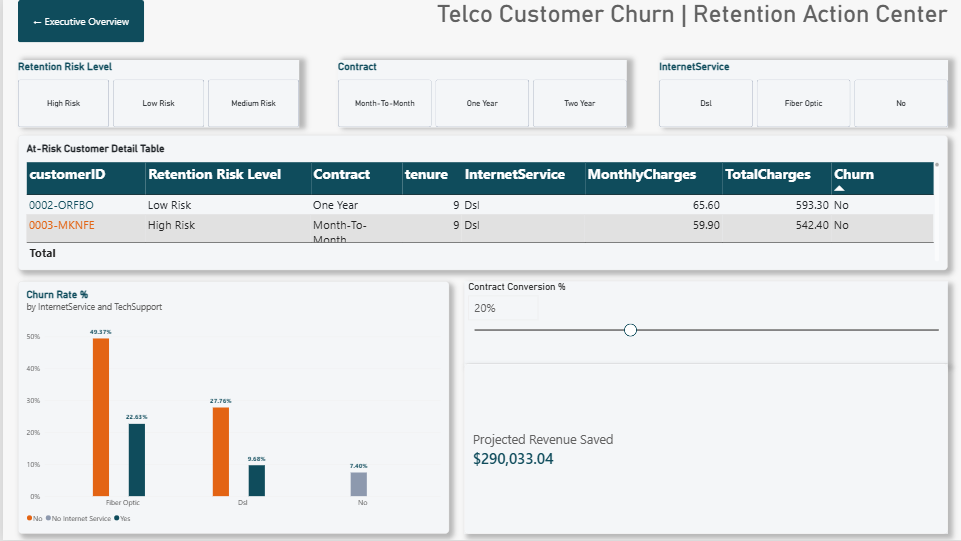

The page's visual inventory and layout, read from the dashboard file:
{"tool":"powerbi","page":{"name":"Retention Action Center","canvas":[1920,1080],"ordinal":1},"visuals":[{"type":"advancedSlicerVisual","fields":{"Values":["WA_Fn-UseC_-Telco-Customer-Churn.Retention Risk Level"]},"box":[30,120,562.5,135],"z":0},{"type":"advancedSlicerVisual","fields":{"Values":["WA_Fn-UseC_-Telco-Customer-Churn.Contract"]},"box":[670,120,577.5,135],"z":1000},{"type":"advancedSlicerVisual","fields":{"Values":["WA_Fn-UseC_-Telco-Customer-Churn.InternetService"]},"box":[1312.5,120,577.5,135],"z":2000},{"type":"tableEx","title":"At-Risk Customer Detail Table","fields":{"Values":["WA_Fn-UseC_-Telco-Customer-Churn.customerID","WA_Fn-UseC_-Telco-Customer-Churn.Retention Risk Level","WA_Fn-UseC_-Telco-Customer-Churn.Contract","WA_Fn-UseC_-Telco-Customer-Churn.tenure","WA_Fn-UseC_-Telco-Customer-Churn.InternetService","WA_Fn-UseC_-Telco-Customer-Churn.MonthlyCharges","WA_Fn-UseC_-Telco-Customer-Churn.TotalCharges","WA_Fn-UseC_-Telco-Customer-Churn.Churn"]},"box":[29.8,270.2,1859.6,270.2],"z":3000},{"type":"clusteredColumnChart","fields":{"Category":["WA_Fn-UseC_-Telco-Customer-Churn.InternetService"],"Series":["WA_Fn-UseC_-Telco-Customer-Churn.TechSupport"],"Y":["Measures_table.Churn Rate %"]},"box":[30,562.5,862.5,505],"z":4000},{"type":"slicer","fields":{"Values":["Contract Conversion %.Contract Conversion %"]},"box":[922.5,562.5,967.5,165],"z":5000},{"type":"cardVisual","fields":{"Data":["Measures_table.Projected Revenue Saved"]},"box":[922.5,727.5,967.5,340],"z":6000},{"type":"actionButton","box":[30,0,252.5,85],"z":6001},{"type":"actionButton","title":"Telco Customer Churn | Retention Action Center","box":[867.5,0,1022.5,120],"z":6002}]}

Visuals, with their boxes in screenshot pixels (x1, y1, x2, y2), scaled from the page's 1920x1080 canvas onto the 961x541 screenshot:
advancedSlicerVisual - WA_Fn-UseC_-Telco-Customer-Churn.Retention Risk Level: <bbox>15, 60, 297, 128</bbox>
advancedSlicerVisual - WA_Fn-UseC_-Telco-Customer-Churn.Contract: <bbox>335, 60, 624, 128</bbox>
advancedSlicerVisual - WA_Fn-UseC_-Telco-Customer-Churn.InternetService: <bbox>657, 60, 946, 128</bbox>
"At-Risk Customer Detail Table" tableEx: <bbox>15, 135, 946, 271</bbox>
clusteredColumnChart - WA_Fn-UseC_-Telco-Customer-Churn.InternetService x WA_Fn-UseC_-Telco-Customer-Churn.TechSupport: <bbox>15, 282, 447, 535</bbox>
slicer - Contract Conversion %.Contract Conversion %: <bbox>462, 282, 946, 364</bbox>
cardVisual - Measures_table.Projected Revenue Saved: <bbox>462, 364, 946, 535</bbox>
actionButton: <bbox>15, 0, 141, 43</bbox>
"Telco Customer Churn | Retention Action Center" actionButton: <bbox>434, 0, 946, 60</bbox>
